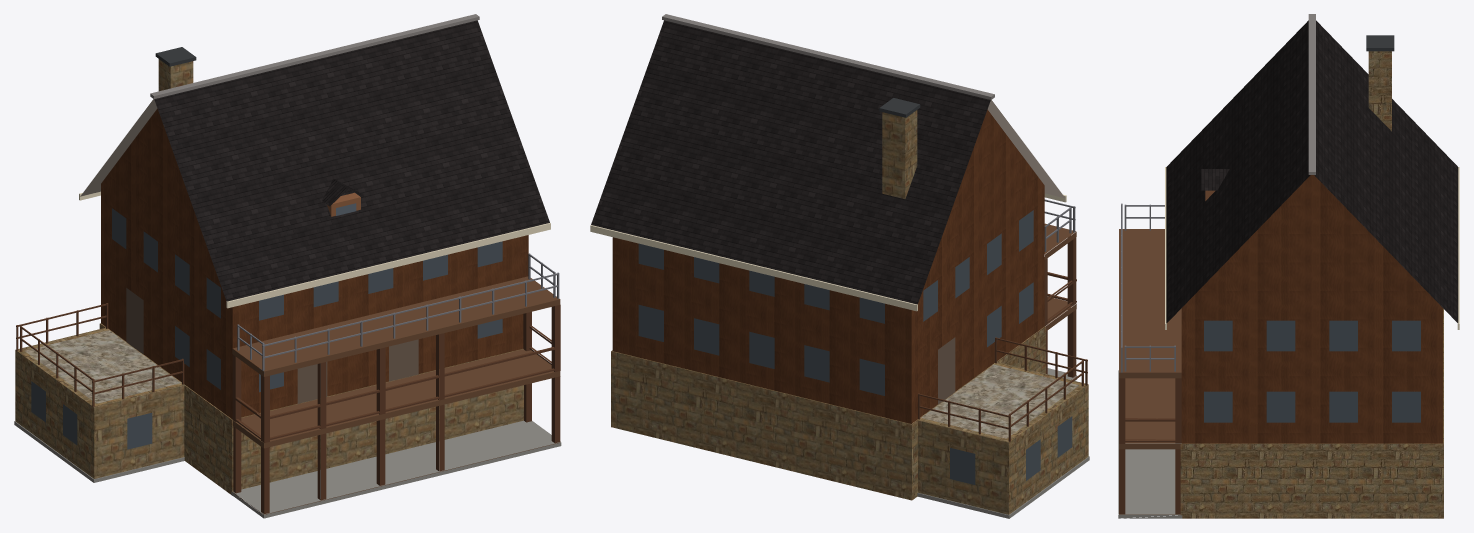
File: rw-timber-lodge.zfix-v22.lod1.glb
3 views of the same model, side by side, from view 1: azimuth 30°, elevation 25°; view 2: azimuth 150°, elevation 25°; view 3: azimuth 270°, elevation 25° (orthographic).
Visible parts, largest first — view 1: rw-timber-lodge; view 2: rw-timber-lodge; view 3: rw-timber-lodge.
Part boxes in pixels (box(x1,y1,x2,y2)): rw-timber-lodge: box(14, 14, 561, 518); rw-timber-lodge: box(590, 14, 1089, 518); rw-timber-lodge: box(1118, 14, 1459, 518).
Size of the model in its own units: 17.68 by 14.96 by 13.07.
5 materials, 4 textured.
